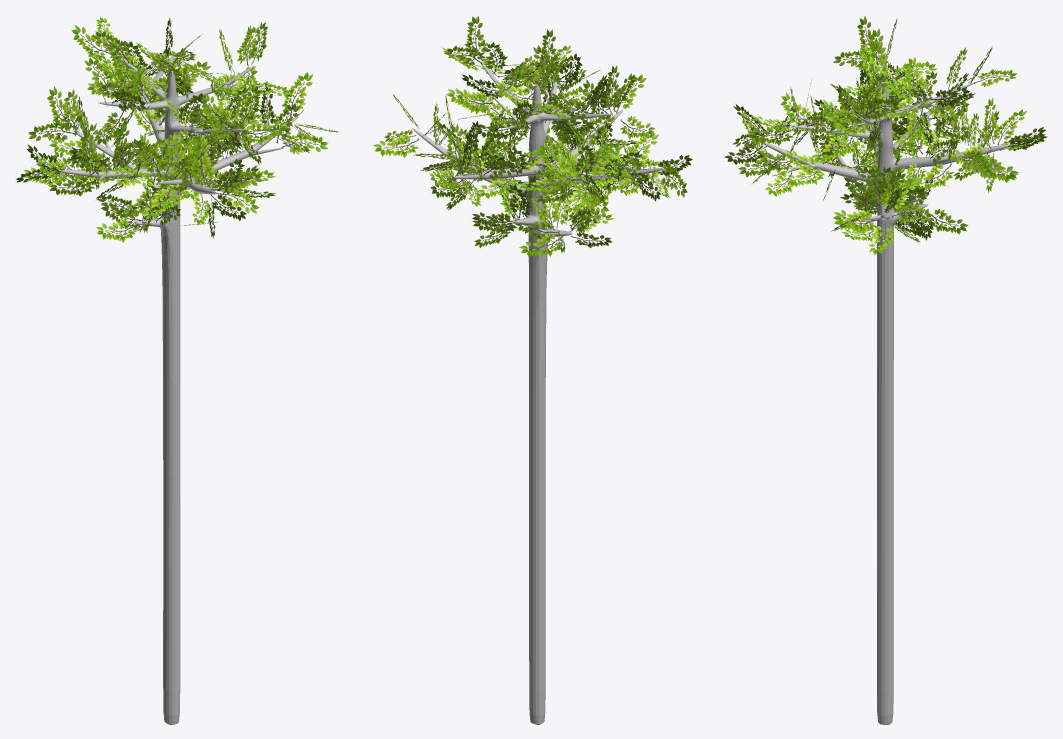
The model's file is SmallTree.fbx.
The picture shows the model from 3 angles, left to right: view 1: azimuth 30°, elevation 25°; view 2: azimuth 150°, elevation 25°; view 3: azimuth 270°, elevation 25°; orthographic projection. The views are drawn at different scales.
Parts seen in each view (by area): view 1: SmallTree; view 2: SmallTree; view 3: SmallTree.
Boxes of the visible parts, x1,y1,x2,y2 form: SmallTree: (16,16,340,724); SmallTree: (373,16,692,724); SmallTree: (724,16,1047,724).
Size of the model in its own units: 453 by 1043 by 501.
